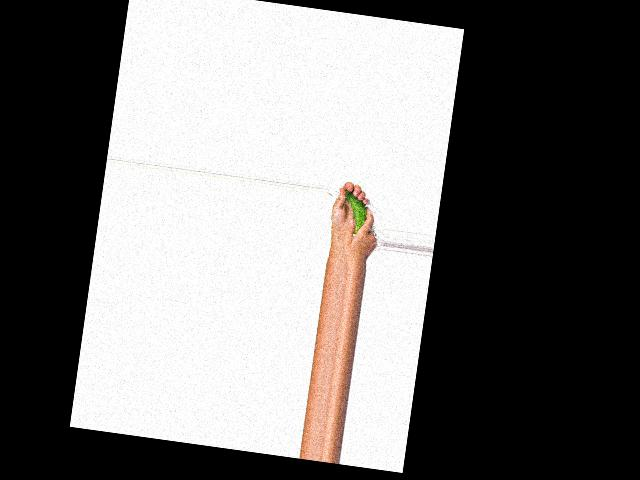cucumber: (339, 189, 370, 236)
